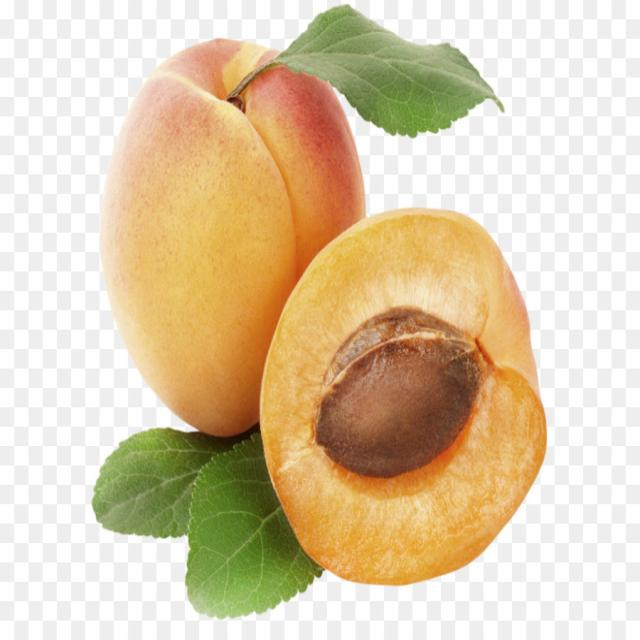Cekirdek: (316, 310, 484, 477)
Kayisi: (260, 208, 545, 584), (100, 39, 365, 435)
Yaprak: (260, 5, 503, 137), (186, 433, 321, 617)
